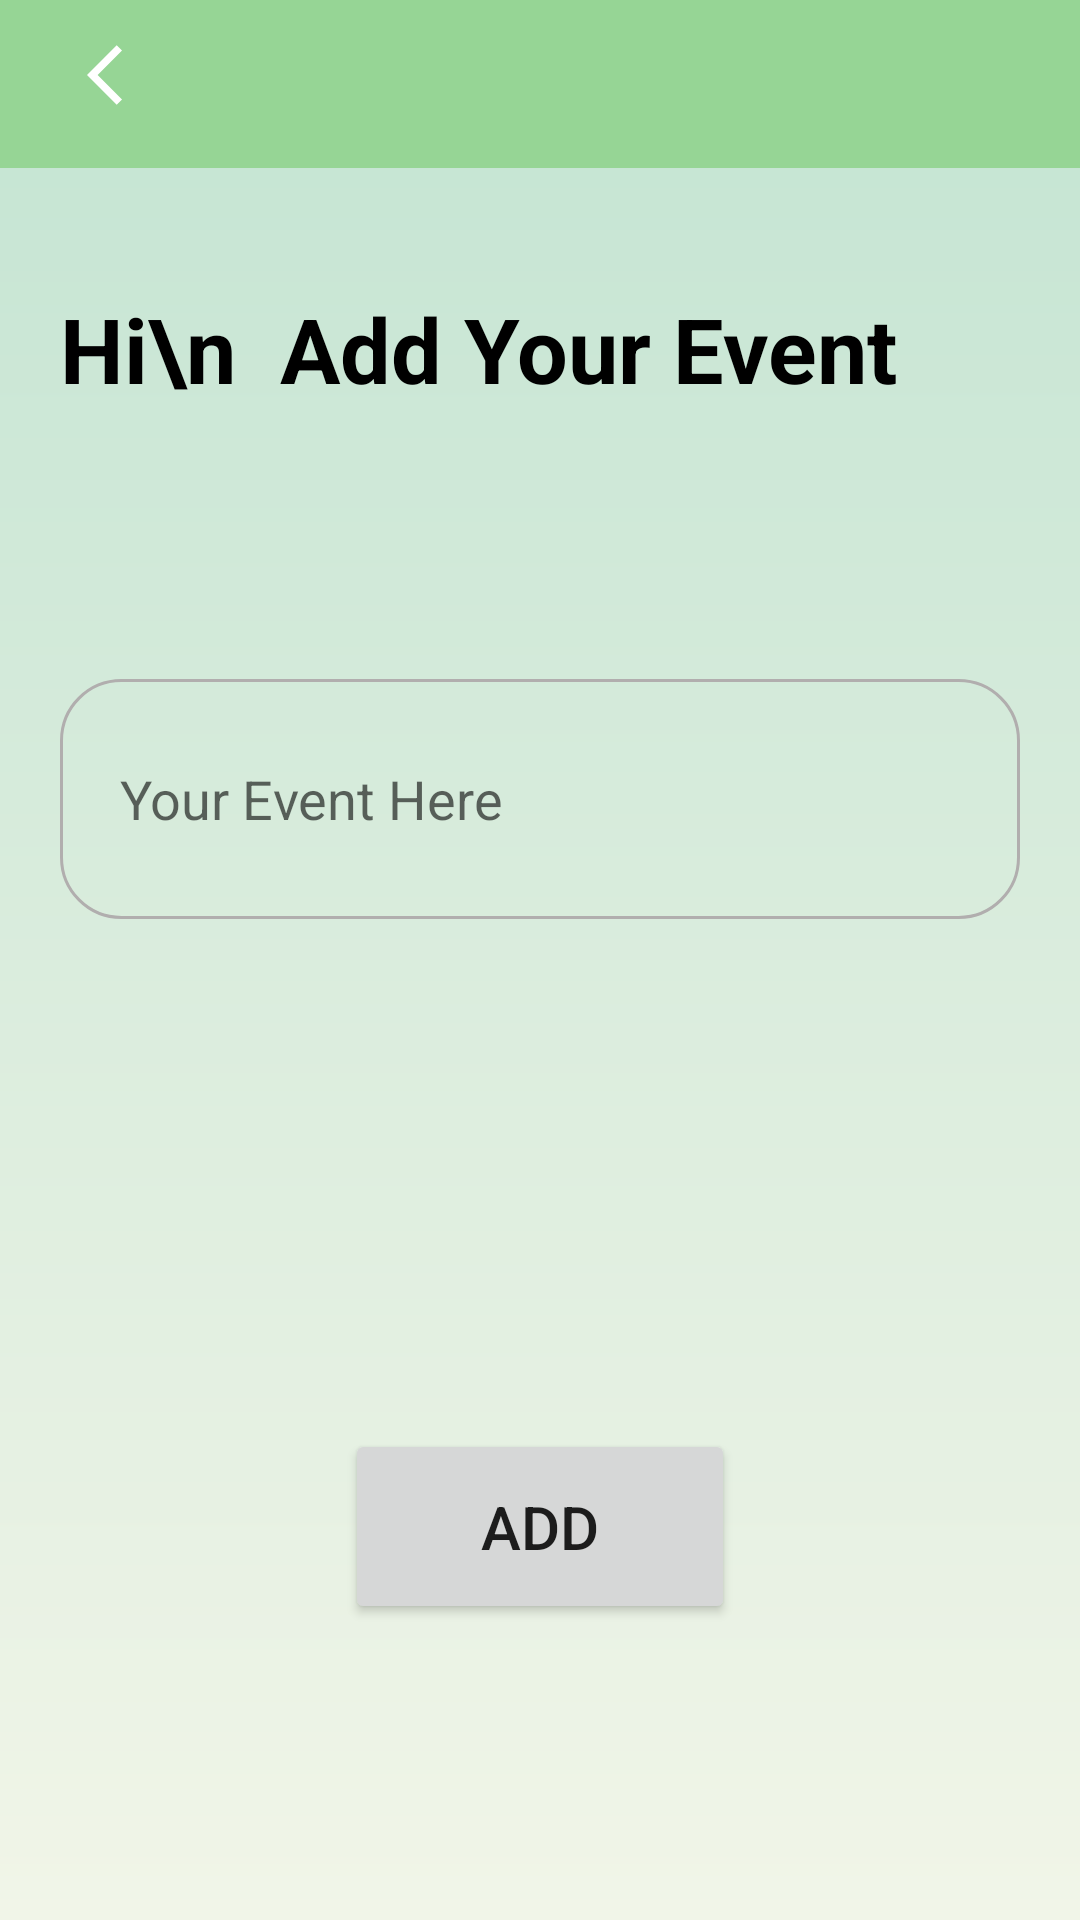

Screen size 1080 x 1920. Icon name, then its center in pixels as (x=x, y=y):
backbtn: (x=104, y=75)
